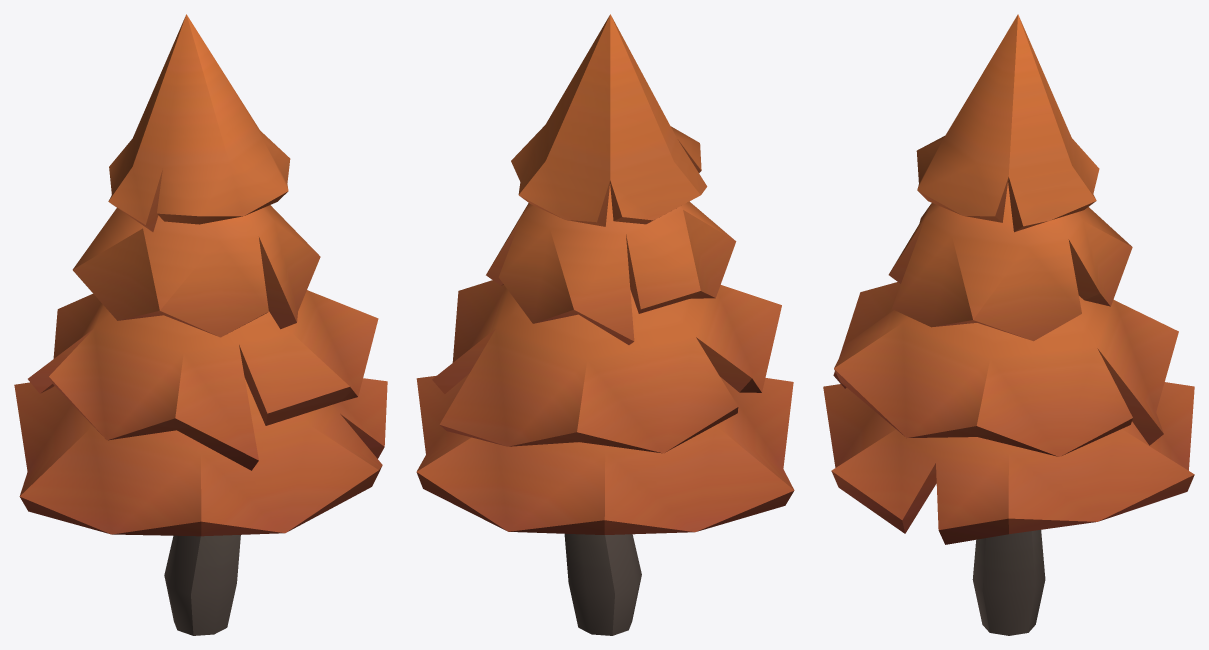
Rendered from tree_pine_orange_large.glb.
The picture shows the model from 3 angles, left to right: view 1: azimuth 30°, elevation 25°; view 2: azimuth 150°, elevation 25°; view 3: azimuth 270°, elevation 25°; orthographic projection.
Visible parts, largest first — view 1: tree_pine_orange_large; view 2: tree_pine_orange_large; view 3: tree_pine_orange_large.
Part boxes in pixels (x1=…): tree_pine_orange_large: x1=14, y1=14, x2=387, y2=635; tree_pine_orange_large: x1=416, y1=14, x2=794, y2=635; tree_pine_orange_large: x1=823, y1=14, x2=1194, y2=635.
Size of the model in its own units: 4.76 by 7.48 by 4.16.
1 material, 1 textured.
